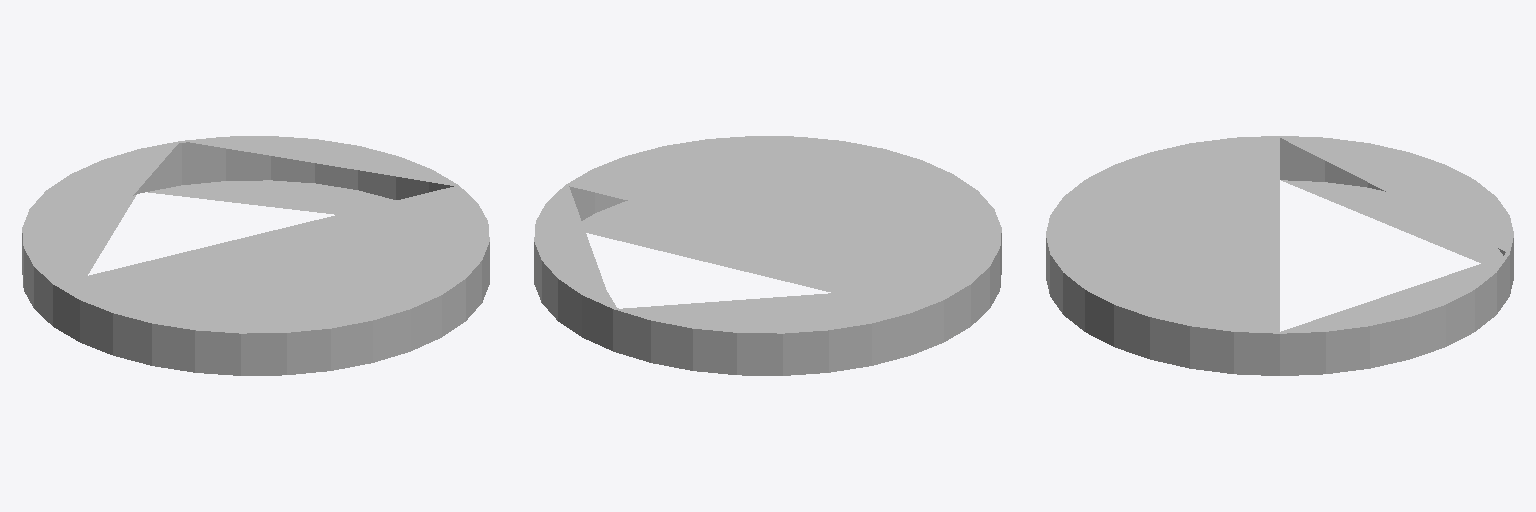
Rendered from stdiumwall.obj.
The picture shows the model from 3 angles: view 1: azimuth 30°, elevation 25°; view 2: azimuth 150°, elevation 25°; view 3: azimuth 270°, elevation 25°; orthographic projection.
Parts seen in each view (by area): view 1: Cylinder; view 2: Cylinder; view 3: Cylinder.
Boxes of the visible parts, x1,y1,x2,y2 form: Cylinder: [22, 136, 489, 375]; Cylinder: [534, 136, 1001, 375]; Cylinder: [1046, 136, 1513, 375].
Bounding box in the file's own units: 20 × 2 × 20.